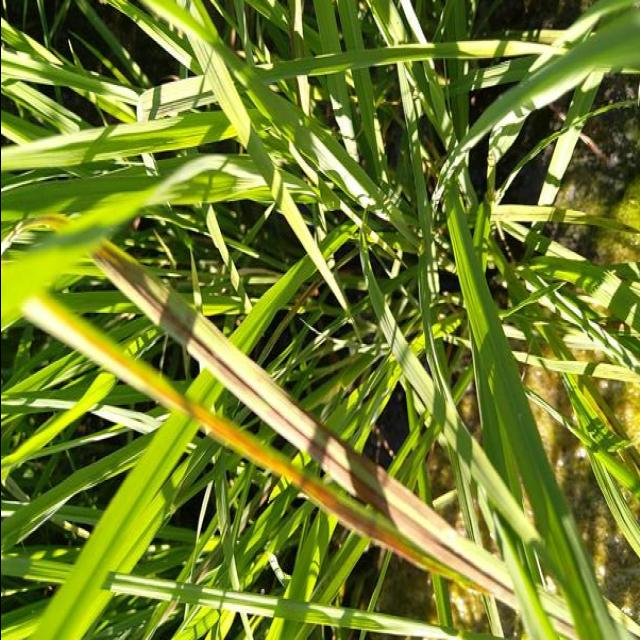Leaf Streak: (92, 244, 518, 607), (61, 321, 433, 572), (540, 590, 578, 640)
